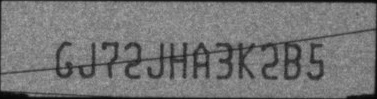2: (261, 41, 280, 80), (124, 41, 142, 80)
3: (214, 40, 234, 80)
5: (306, 41, 324, 81)
7: (101, 41, 118, 78)
A: (192, 41, 211, 79)
B: (283, 41, 302, 80)
G: (55, 40, 74, 78)
H: (169, 40, 187, 80)
J: (147, 41, 166, 80), (78, 40, 96, 79)
K: (238, 40, 256, 79)
